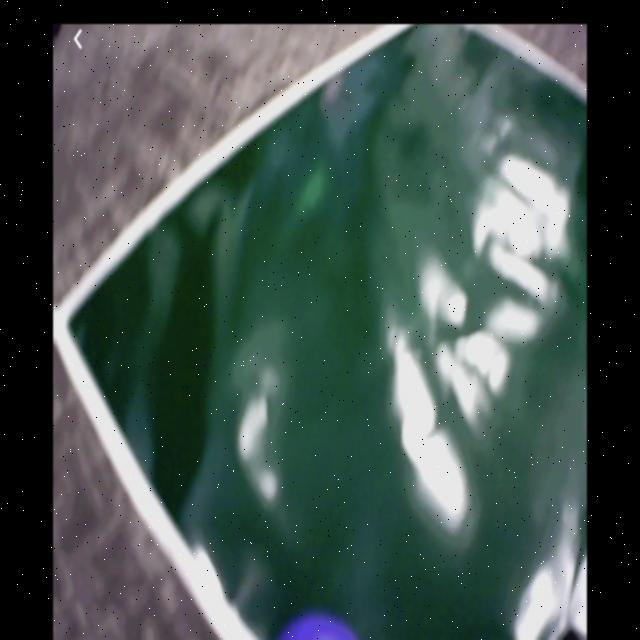ball: (276, 616, 363, 640)
